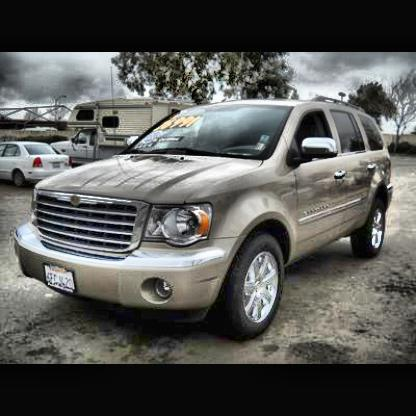Chrysler Aspen SUV 2009: (19, 109, 394, 339)
